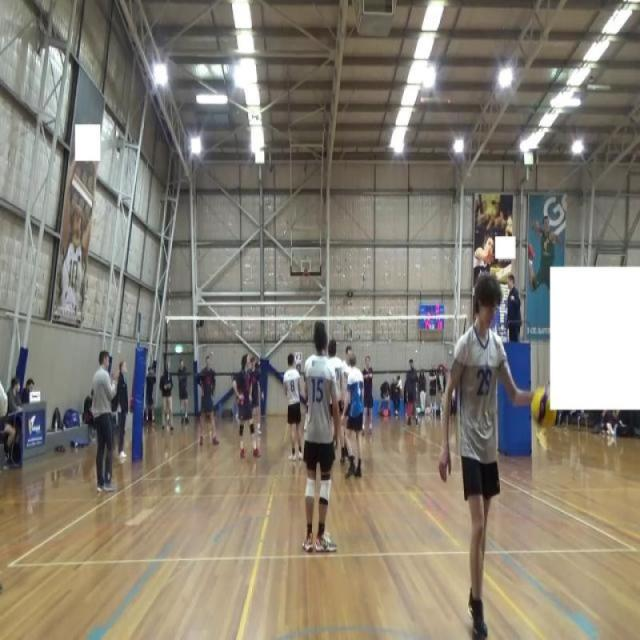volleyball: (529, 380, 559, 433)
